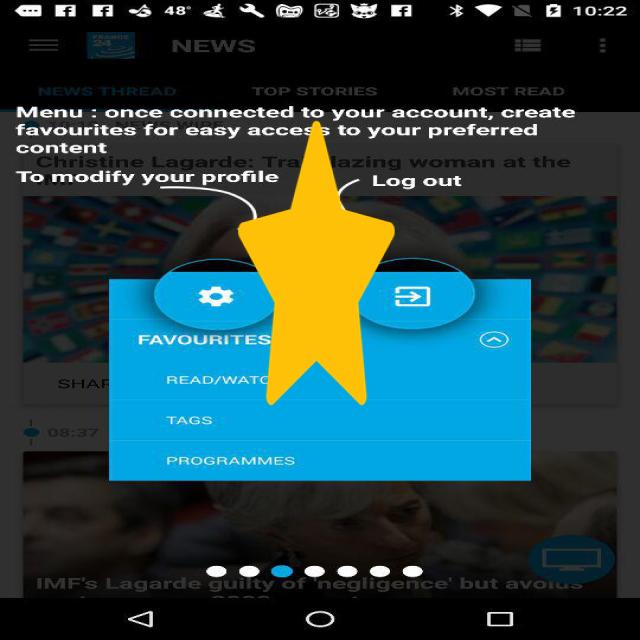forced continuity: (238, 121, 395, 405)
